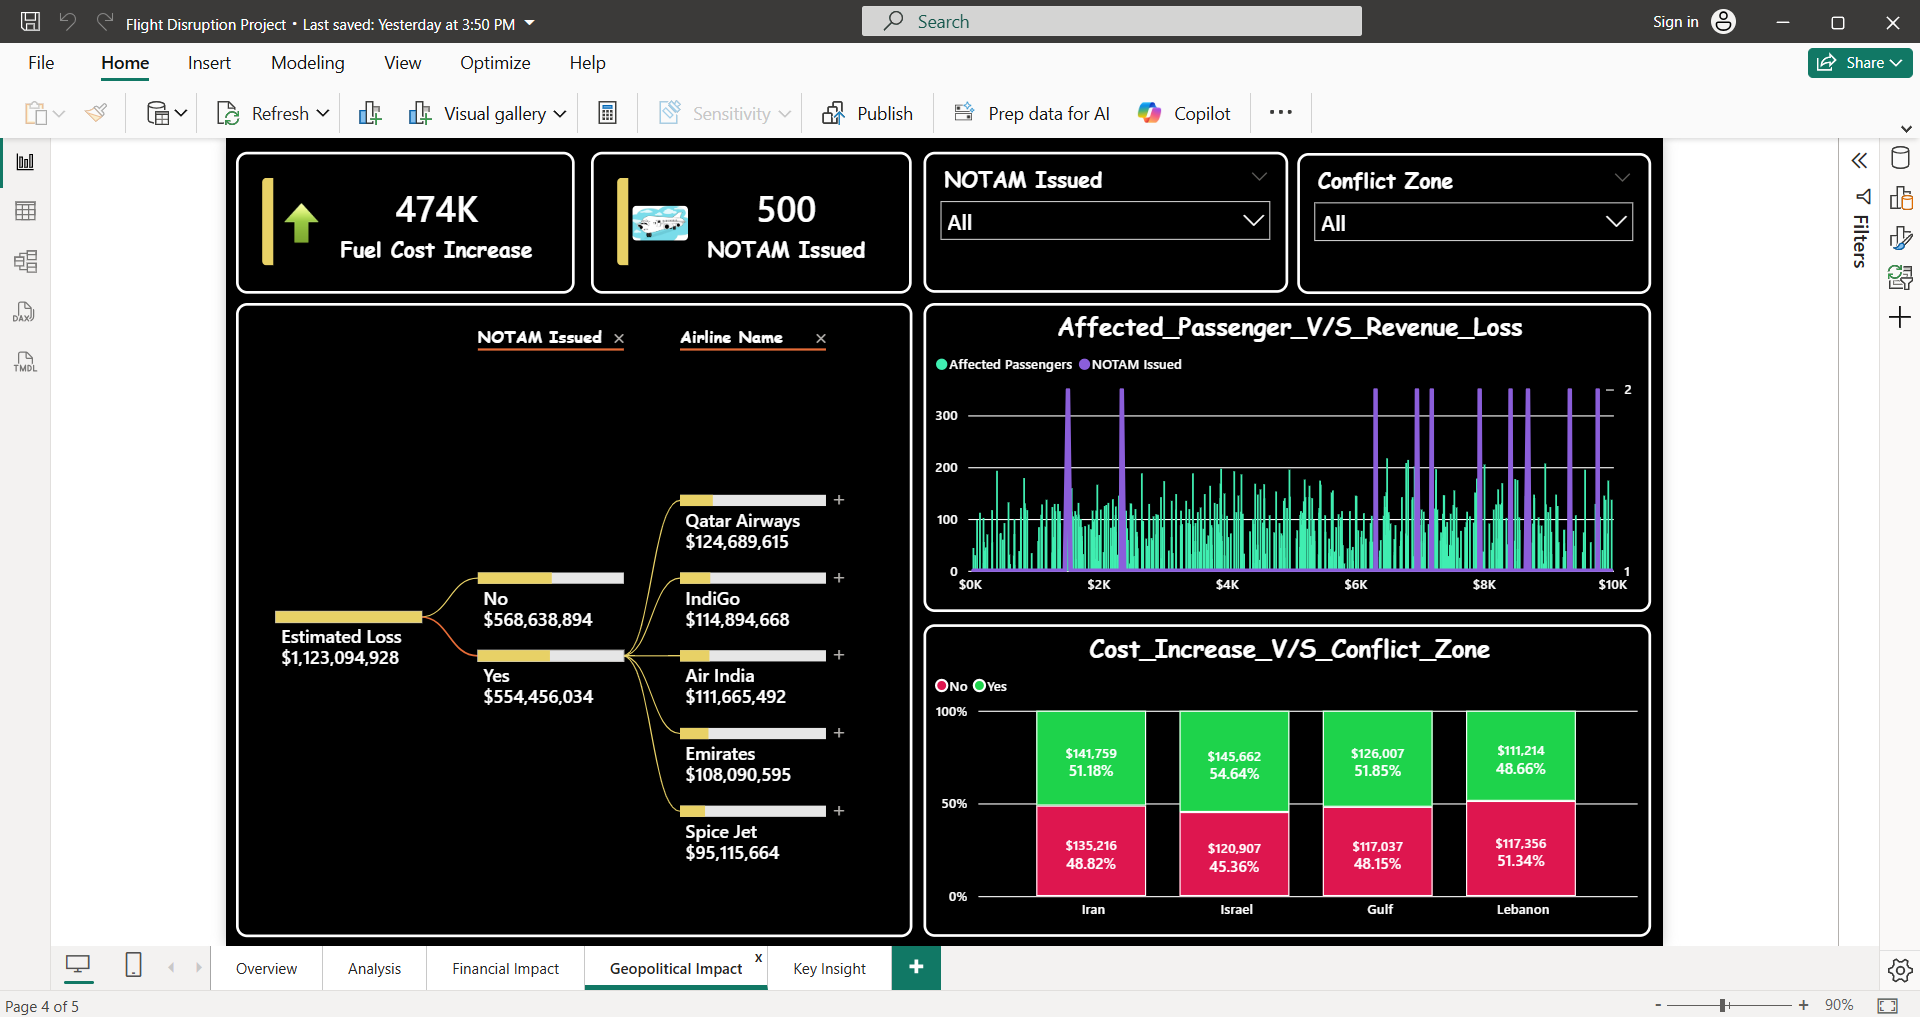

The page's visual inventory and layout, read from the dashboard file:
{"tool":"powerbi","page":{"name":"Geopolitical Impact","canvas":[1280,720],"ordinal":3},"visuals":[{"type":"hundredPercentStackedColumnChart","title":"Cost_Increase_V/S_Conflict_Zone","fields":{"Category":["Flight_Disruption.Conflict Zone"],"Series":["Flight_Disruption.NOTAM Issued"],"Y":["Sum(Flight_Disruption.Operational Cost Increase)"]},"box":[621.3,433.1,647.9,278.7],"z":0},{"type":"decompositionTreeVisual","fields":{"Analyze":["Measure_F.Estimated Loss"],"ExplainBy":["Flight_Disruption.NOTAM Issued","Flight_Disruption.Airline Name","Flight_Disruption.Disruption Type","Flight_Disruption.Country"]},"box":[8.4,147.2,602,564.6],"z":1000},{"type":"lineClusteredColumnComboChart","title":"Affected_Passenger_V/S_Revenue_Loss","fields":{"Category":["Flight_Disruption.Revenue Loss"],"Y":["Sum(Flight_Disruption.Affected Passengers)"],"Y2":["CountNonNull(Flight_Disruption.NOTAM Issued)"]},"box":[621.3,147.2,647.9,275.1],"z":2000},{"type":"slicer","fields":{"Values":["Flight_Disruption.NOTAM Issued"]},"box":[621.3,12.1,324.5,125.5],"z":3000},{"type":"slicer","fields":{"Values":["Flight_Disruption.Conflict Zone"]},"box":[954.3,13.3,314.9,125.5],"z":4000},{"type":"cardVisual","fields":{"Data":["Sum(Flight_Disruption.Fuel Cost Increase)"]},"box":[8.4,12.1,301.6,126.7],"z":5000},{"type":"cardVisual","fields":{"Data":["CountNonNull(Flight_Disruption.NOTAM Issued)"]},"box":[324.5,12.1,285.9,126.7],"z":6000}]}

Visuals, with their boxes on the page's 1280x720 design canvas (x1, y1, x2, y2). These are canvas units, not pixel positions in the 1920x1017 screenshot, which may show the page scaled, cropped or inside an application window:
"Cost_Increase_V/S_Conflict_Zone" hundredPercentStackedColumnChart: {"x1": 621, "y1": 433, "x2": 1269, "y2": 712}
decompositionTreeVisual - Measure_F.Estimated Loss x Flight_Disruption.NOTAM Issued: {"x1": 8, "y1": 147, "x2": 610, "y2": 712}
"Affected_Passenger_V/S_Revenue_Loss" lineClusteredColumnComboChart: {"x1": 621, "y1": 147, "x2": 1269, "y2": 422}
slicer - Flight_Disruption.NOTAM Issued: {"x1": 621, "y1": 12, "x2": 946, "y2": 138}
slicer - Flight_Disruption.Conflict Zone: {"x1": 954, "y1": 13, "x2": 1269, "y2": 139}
cardVisual - Sum(Flight_Disruption.Fuel Cost Increase): {"x1": 8, "y1": 12, "x2": 310, "y2": 139}
cardVisual - CountNonNull(Flight_Disruption.NOTAM Issued): {"x1": 324, "y1": 12, "x2": 610, "y2": 139}
